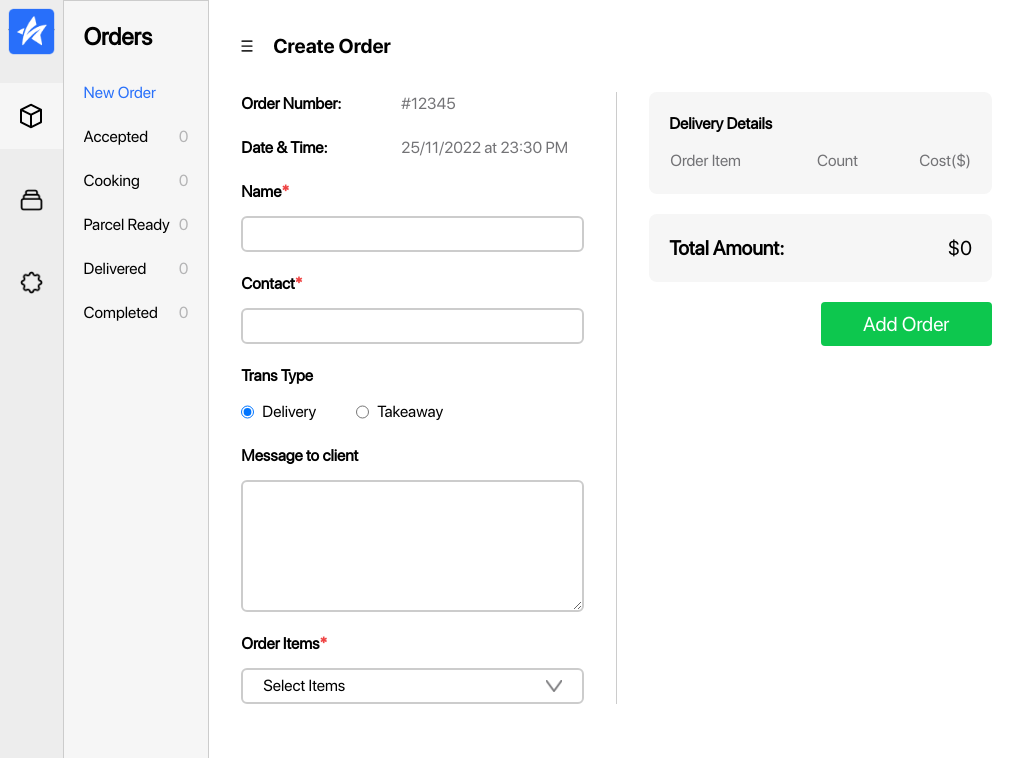
Test: Dropdown › opens on click
What coordinates should you click on to do the following:
click the button with test id "inputItems"
I would click on:
 (304, 686)
Its box is [241,668,584,704].
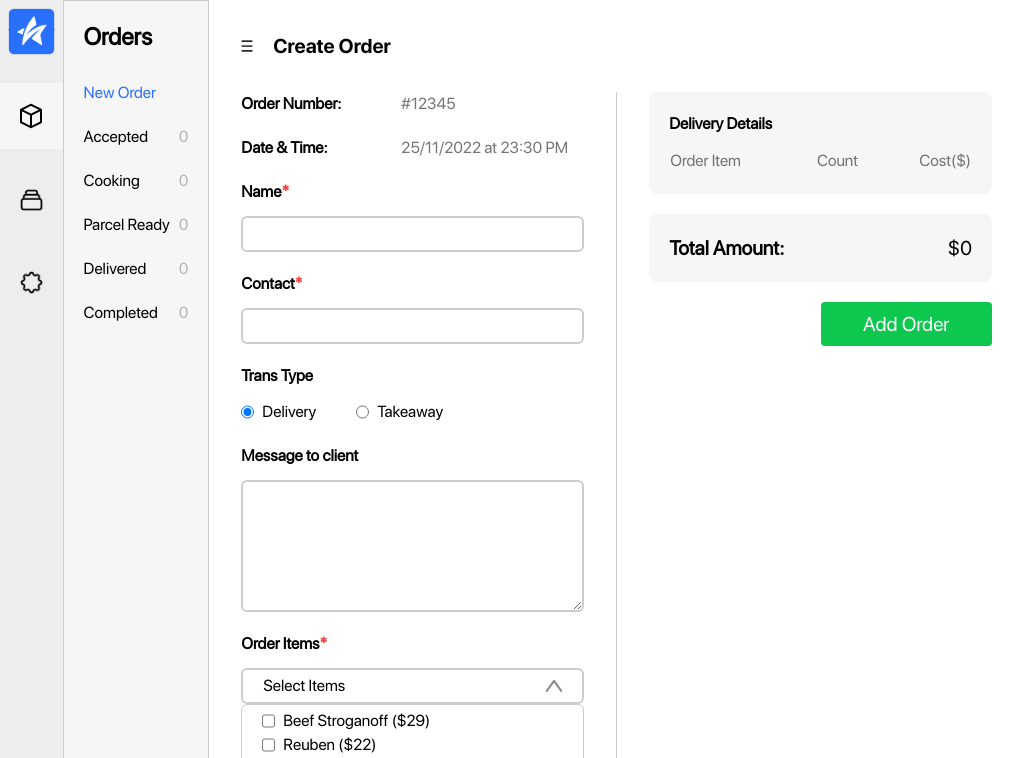
Now the label "Beef Stroganoff ($29)" is shown, box [283,709,430,733]
